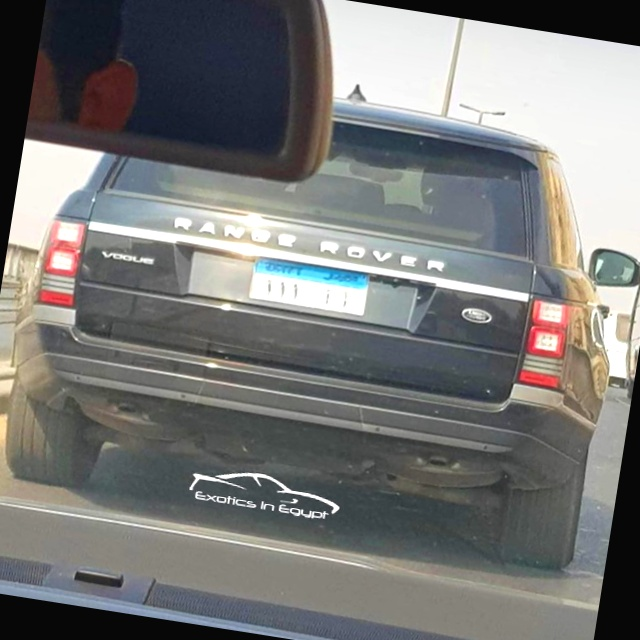License Plate: (245, 253, 374, 320)
